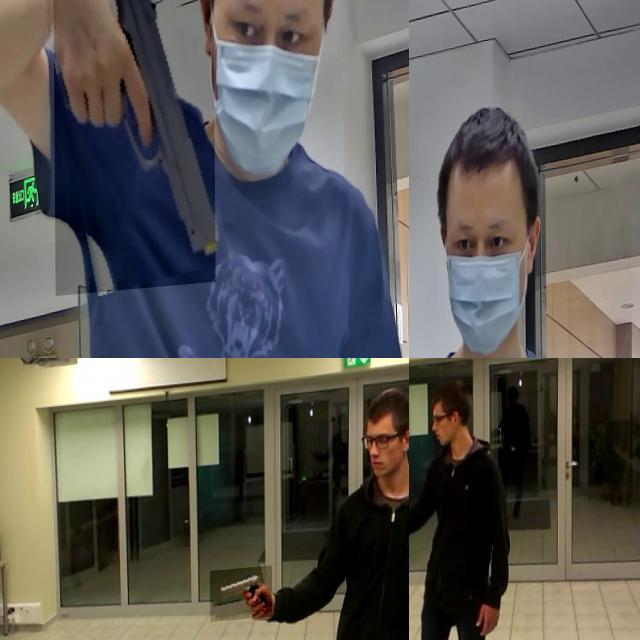gun-knife-thesis - v11 Yolov5 augmented: (52, 0, 215, 299), (409, 185, 444, 357), (210, 572, 272, 628), (409, 504, 428, 543)
